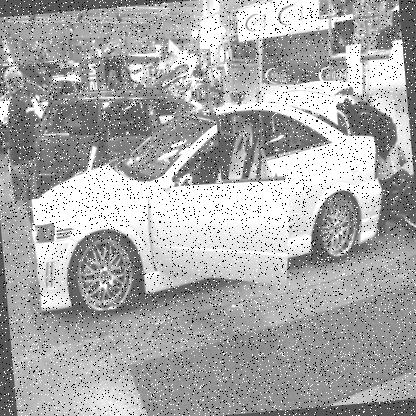Car: (25, 92, 410, 316), (0, 47, 223, 204)
